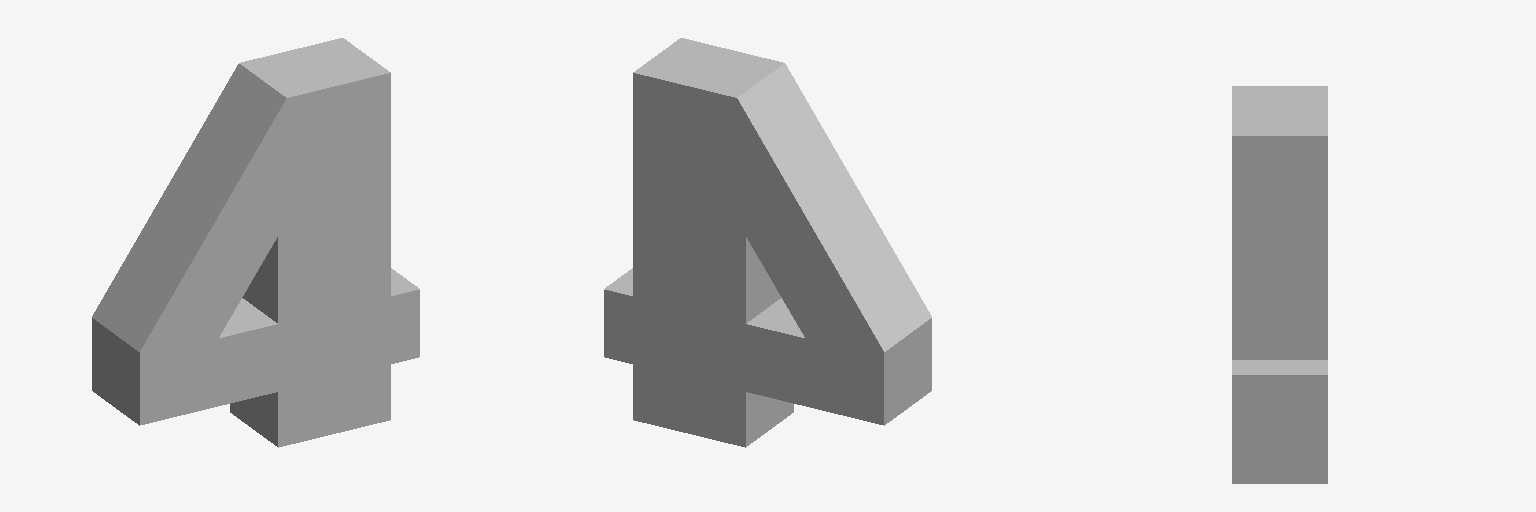
3 views of the same model, side by side, from view 1: azimuth 30°, elevation 25°; view 2: azimuth 150°, elevation 25°; view 3: azimuth 270°, elevation 25° (orthographic).
Visible parts, largest first — view 1: text: ABCDEFGHIJKLMNOPQRSTUVWXYZ[number redacted]; view 2: text: ABCDEFGHIJKLMNOPQRSTUVWXYZ[number redacted]; view 3: text: ABCDEFGHIJKLMNOPQRSTUVWXYZ[number redacted].
Boxes of the visible parts, x1=… form: text: ABCDEFGHIJKLMNOPQRSTUVWXYZ[number redacted]: x1=92, y1=38, x2=419, y2=447; text: ABCDEFGHIJKLMNOPQRSTUVWXYZ[number redacted]: x1=604, y1=38, x2=931, y2=447; text: ABCDEFGHIJKLMNOPQRSTUVWXYZ[number redacted]: x1=1232, y1=86, x2=1327, y2=483.
Size of the model in its own units: 84.58 by 100 by 25.